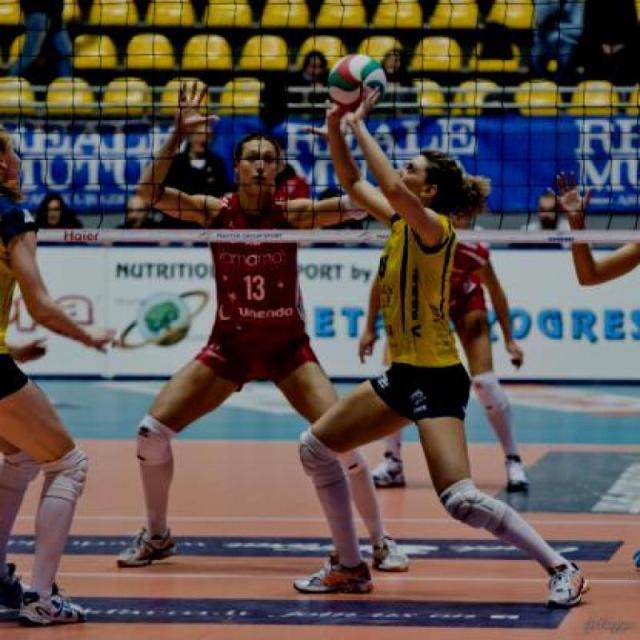volleyball: (323, 49, 385, 111)
